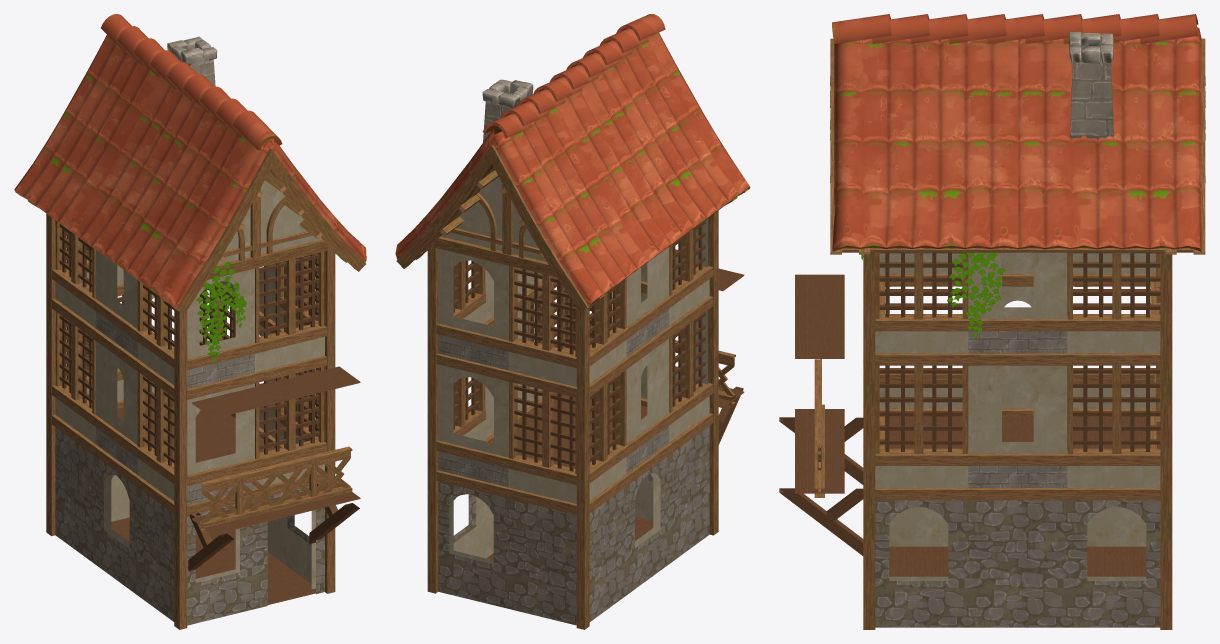
Rendered from med-townhouse-v3.glb.
The picture shows the model from 3 angles, left to right: view 1: azimuth 30°, elevation 25°; view 2: azimuth 150°, elevation 25°; view 3: azimuth 270°, elevation 25°; orthographic projection. The views are drawn at different scales.
Parts seen in each view (by area): view 1: med-townhouse-v3; view 2: med-townhouse-v3; view 3: med-townhouse-v3.
Boxes of the visible parts, bbox=[...] form: med-townhouse-v3: bbox=[14, 14, 366, 629]; med-townhouse-v3: bbox=[395, 14, 750, 629]; med-townhouse-v3: bbox=[779, 14, 1205, 629].
Bounding box in the file's own units: 5.51 × 12.72 × 8.61.
7 materials, 7 textured.
